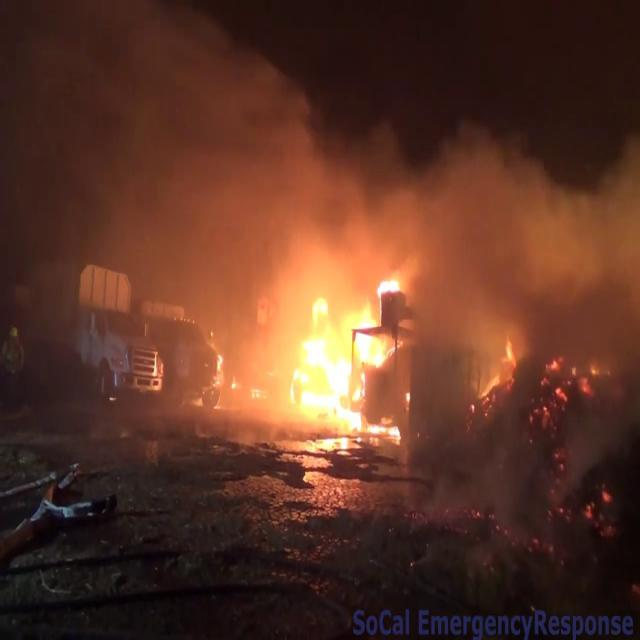Fire: (271, 266, 409, 439), (476, 337, 522, 408)
Smoke: (1, 1, 368, 348), (388, 117, 640, 514)
